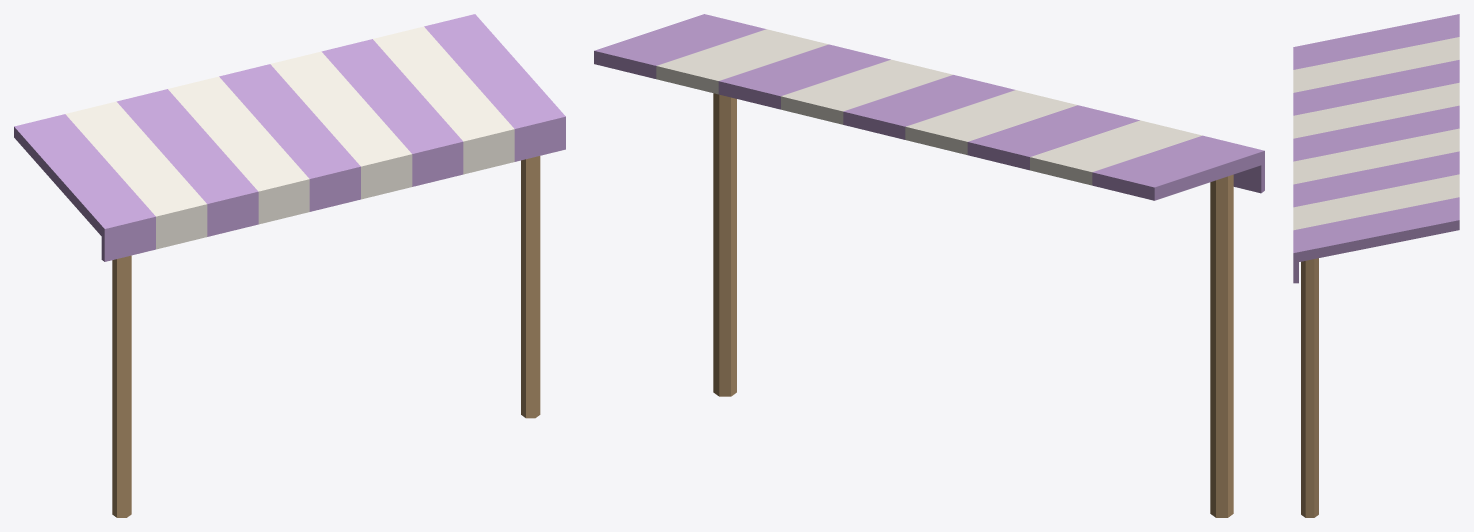
File: awning_w4_4_mint.glb
3 views of the same model, side by side, from view 1: azimuth 30°, elevation 25°; view 2: azimuth 150°, elevation 25°; view 3: azimuth 270°, elevation 25° (orthographic). The views are drawn at different scales.
Parts seen in each view (by area): view 1: Player; view 2: Player; view 3: Player.
Boxes of the visible parts, left/top/right/bottom form: Player: left=14, top=14, right=565, bottom=517; Player: left=594, top=14, right=1264, bottom=517; Player: left=1293, top=14, right=1459, bottom=517.
Bounding box in the file's own units: 4.4 × 3.05 × 1.5.
